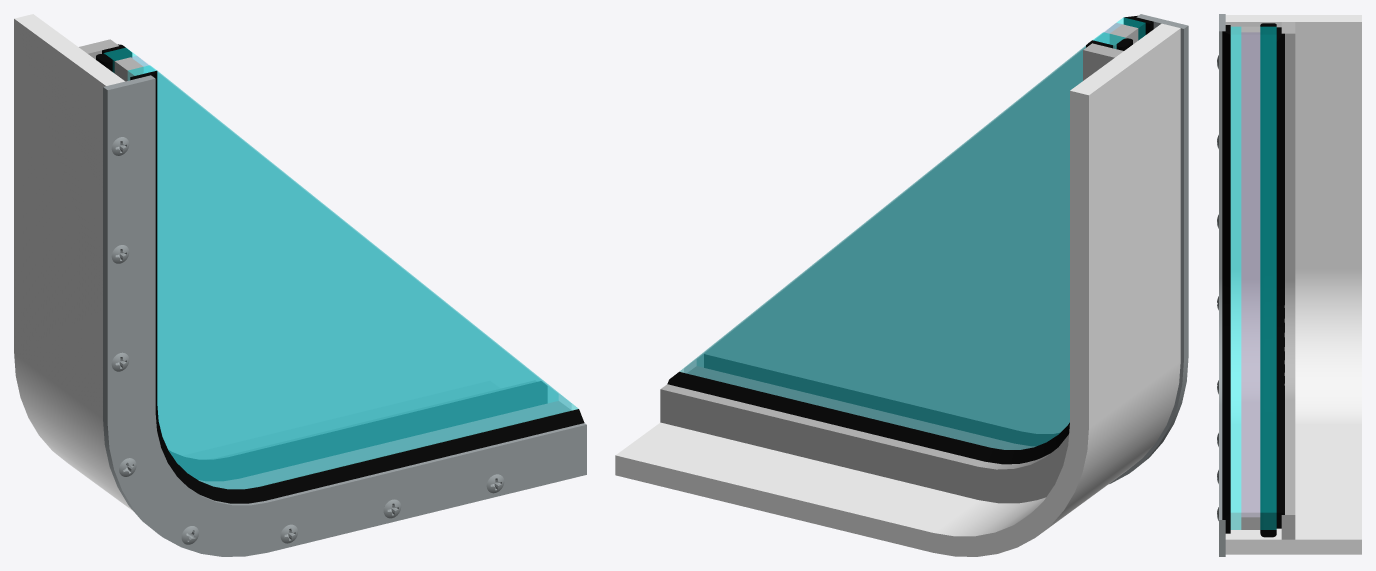
File: double-glazed-marine-window.glb
3 views of the same model, side by side, from view 1: azimuth 30°, elevation 25°; view 2: azimuth 150°, elevation 25°; view 3: azimuth 270°, elevation 25° (orthographic). The views are drawn at different scales.
Visible parts, largest first — view 1: P016285-1_a711c5, P016285-1_8aad0d, P016283-1, P016280-1_2ed770, P016279-1, P016285-1_96c763, P016278-1; view 2: P016285-1_a711c5, P016285-1_8aad0d, P016280-1_2ed770, P016278-1, P016279-1, P016283-1, P016285-1_96c763; view 3: P016280-1_2ed770, P016285-1_a711c5, P016285-1_96c763, P016285-1_8aad0d, P016279-1, P016282-1, P016278-1, P016283-1.
Boxes of the visible parts, x1,y1,x2,y2 form: P016285-1_a711c5: (103, 47, 578, 489); P016285-1_8aad0d: (131, 56, 570, 488); P016283-1: (103, 75, 586, 556); P016280-1_2ed770: (14, 14, 499, 510); P016279-1: (102, 44, 584, 503); P016285-1_96c763: (114, 57, 571, 488); P016278-1: (79, 39, 536, 458); P016285-1_a711c5: (680, 17, 1145, 449); P016285-1_8aad0d: (684, 23, 1121, 449); P016280-1_2ed770: (615, 23, 1180, 556); P016278-1: (660, 43, 1123, 503); P016279-1: (667, 15, 1153, 464); P016283-1: (1109, 14, 1188, 483); P016285-1_96c763: (687, 24, 1138, 449); P016280-1_2ed770: (1225, 15, 1361, 554); P016285-1_a711c5: (1230, 26, 1276, 529); P016285-1_96c763: (1241, 26, 1260, 529); P016285-1_8aad0d: (1241, 32, 1259, 516); P016279-1: (1222, 25, 1284, 533); P016282-1: (1260, 23, 1276, 537); P016278-1: (1281, 22, 1295, 539); P016283-1: (1219, 14, 1225, 556).
Bounding box in the file's own units: 0.3 × 0.3 × 0.1064.
